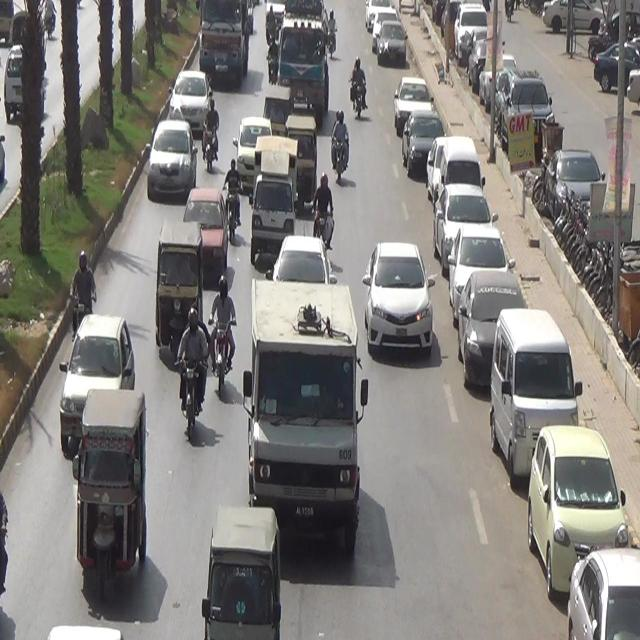car: (361, 236, 440, 369), (56, 313, 132, 442), (147, 119, 194, 204), (237, 117, 275, 178), (169, 68, 208, 127)
motorbike: (203, 262, 240, 408), (176, 304, 209, 438), (312, 165, 336, 252), (344, 50, 371, 127), (332, 109, 356, 195), (69, 255, 95, 325), (220, 167, 242, 247), (203, 100, 222, 179)
truck: (241, 262, 371, 562), (272, 5, 334, 123), (196, 0, 256, 88), (255, 140, 296, 267)
